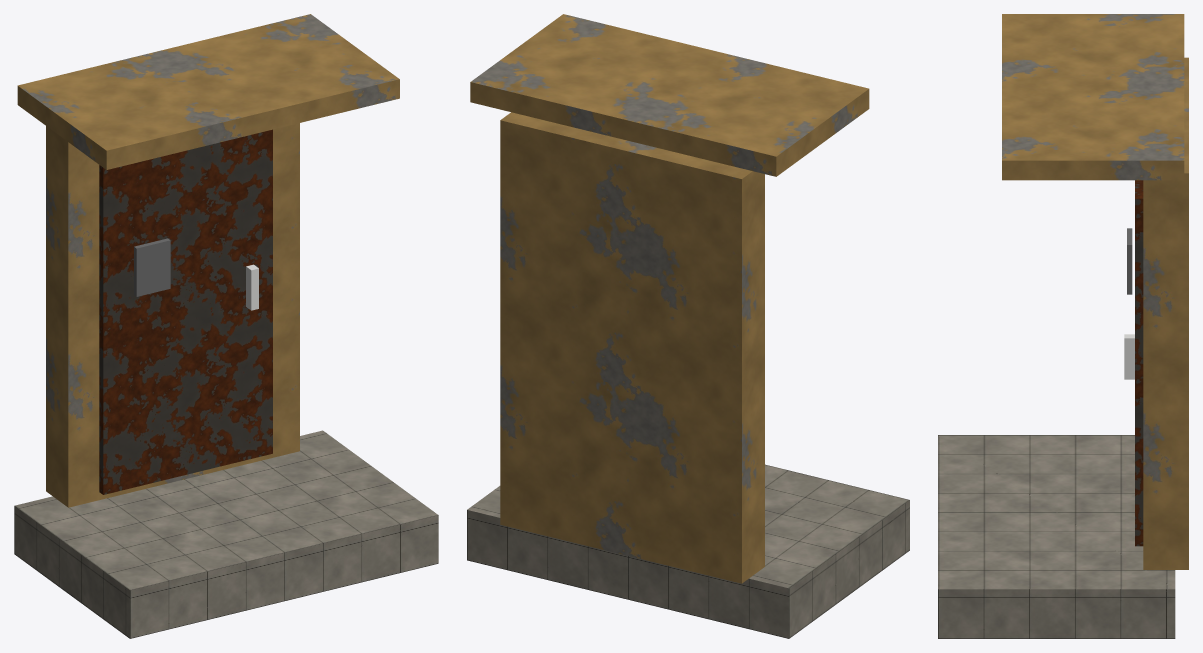
The model's file is entrance_door.glb.
The picture shows the model from 3 angles, left to right: view 1: azimuth 30°, elevation 25°; view 2: azimuth 150°, elevation 25°; view 3: azimuth 270°, elevation 25°; orthographic projection. The views are drawn at different scales.
Parts seen in each view (by area): view 1: entrance_door; view 2: entrance_door; view 3: entrance_door.
Boxes of the visible parts, <box> form: entrance_door: <box>14,14,438,638</box>; entrance_door: <box>467,14,909,638</box>; entrance_door: <box>938,14,1188,638</box>.
Bounding box in the file's own units: 2 × 2.87 × 1.38.
5 materials, 3 textured.
